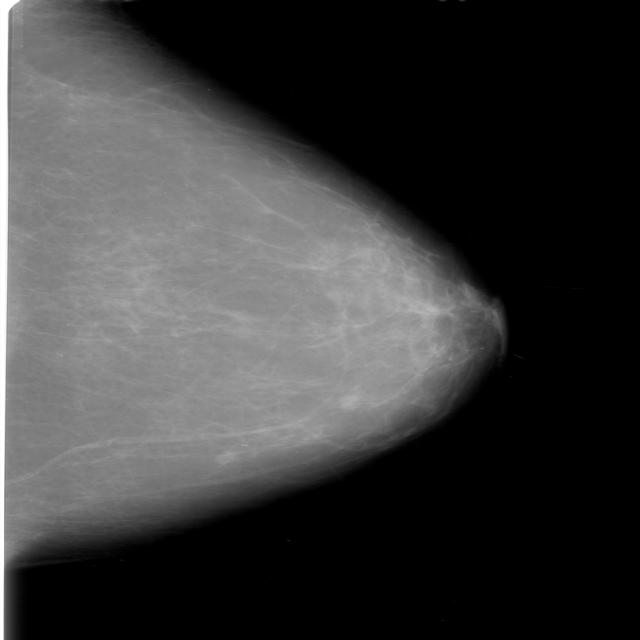normal: (0, 0, 518, 552)
